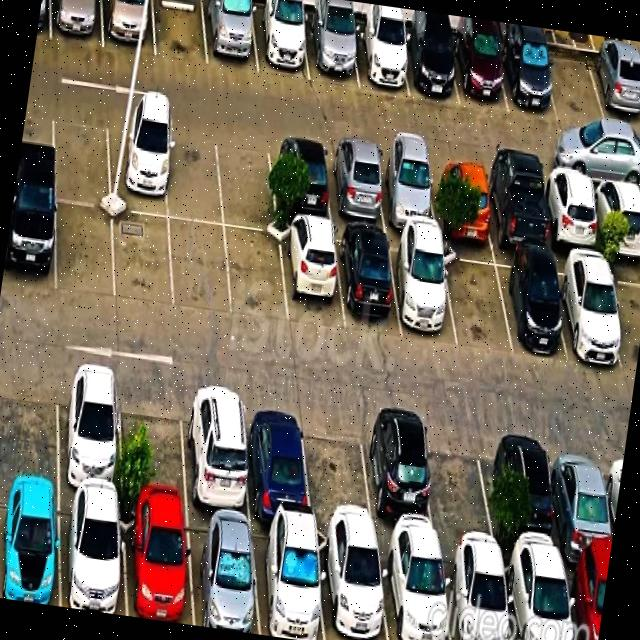empty: (114, 404, 190, 518), (296, 432, 376, 540), (0, 378, 66, 502), (420, 438, 492, 548), (442, 256, 514, 354), (162, 123, 228, 225), (49, 206, 120, 299), (107, 206, 175, 302), (219, 130, 284, 226), (46, 116, 114, 206), (220, 225, 285, 316), (544, 30, 606, 122), (166, 217, 230, 304), (148, 0, 212, 66)
occupied: (170, 415, 253, 532), (48, 399, 128, 512), (357, 430, 435, 545), (116, 516, 196, 624), (187, 526, 266, 634), (240, 428, 312, 546), (487, 438, 557, 554), (253, 533, 327, 640), (560, 264, 630, 376), (546, 455, 616, 563), (54, 512, 128, 614), (391, 240, 461, 346), (318, 547, 397, 640), (502, 256, 570, 362), (102, 110, 174, 210), (486, 162, 552, 268), (430, 148, 496, 253), (0, 501, 65, 605), (338, 229, 402, 334), (275, 226, 344, 323), (381, 551, 456, 640), (263, 134, 334, 228), (539, 172, 602, 274), (505, 567, 585, 640), (446, 559, 518, 640), (375, 148, 436, 240), (401, 10, 462, 102), (2, 198, 60, 289), (452, 18, 510, 108), (502, 24, 558, 116), (590, 177, 640, 280), (326, 143, 385, 230), (354, 4, 411, 94), (304, 0, 362, 84), (199, 0, 261, 74), (252, 0, 311, 77), (590, 36, 640, 120), (99, 0, 156, 49), (49, 0, 103, 43)
